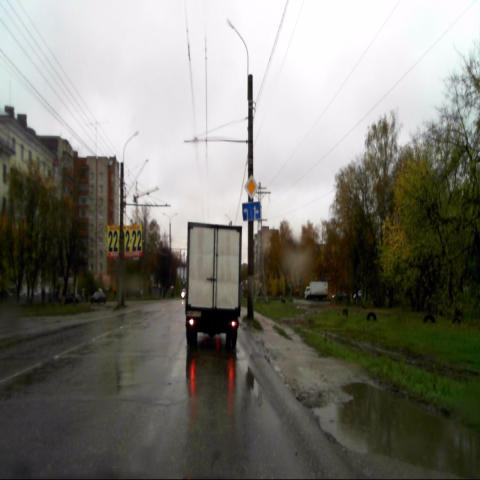2_1: (244, 174, 258, 198)
5_15_2_2: (242, 201, 261, 221)
